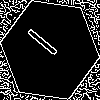I: (25, 25, 67, 65)
